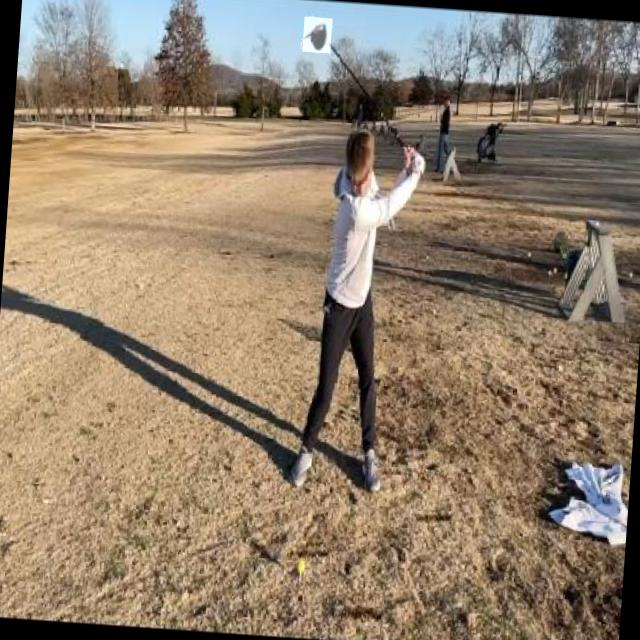club head: (302, 16, 332, 53)
